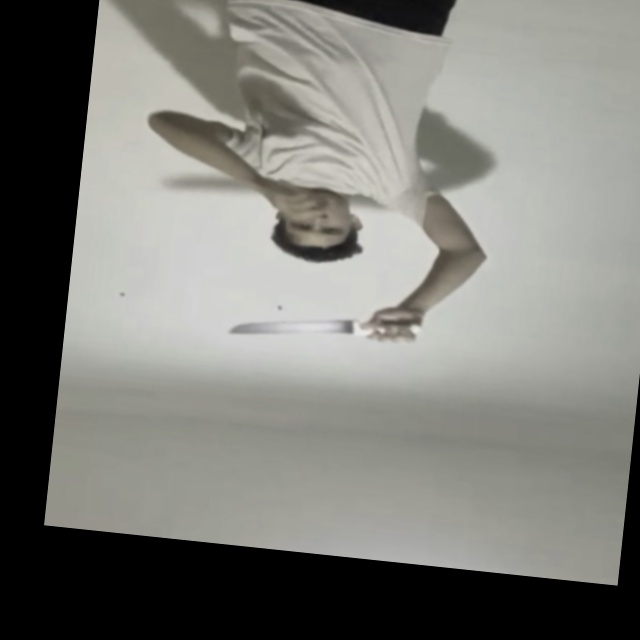Sharp-Object: (223, 309, 353, 349)
